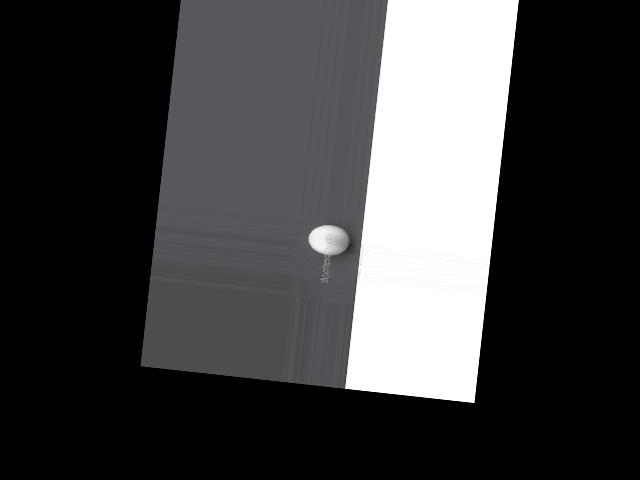egg: (306, 222, 350, 256)
